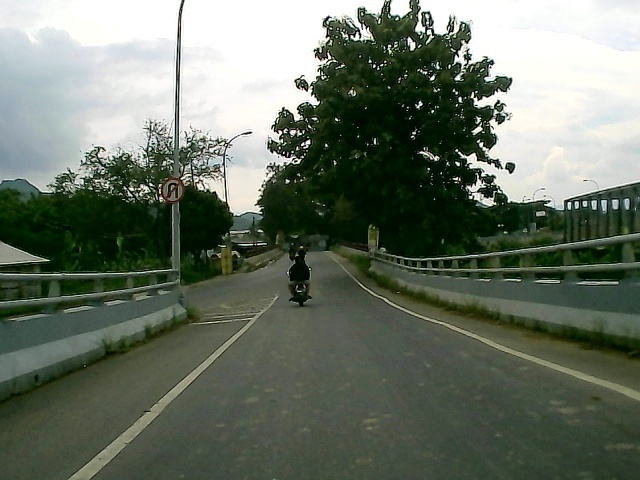Dilarang berbalik arah: (156, 176, 187, 205)
